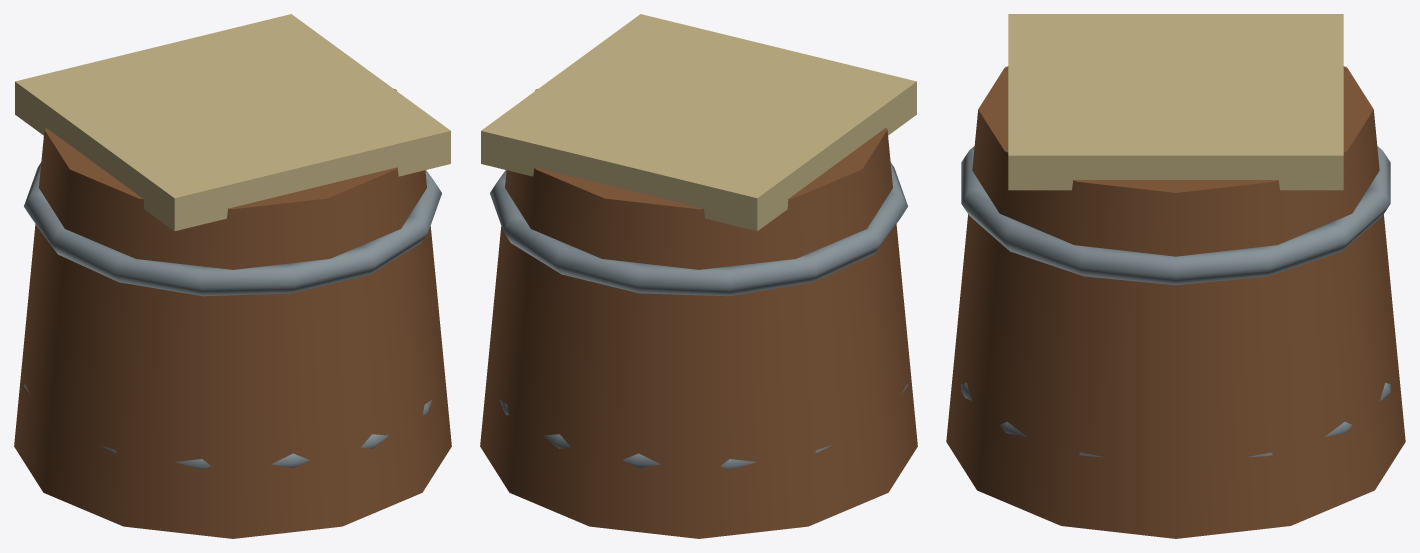
Rendered from compost_bin.glb.
3 views of the same model, side by side, from view 1: azimuth 30°, elevation 25°; view 2: azimuth 150°, elevation 25°; view 3: azimuth 270°, elevation 25° (orthographic). The views are drawn at different scales.
Visible parts, largest first — view 1: body, lid, ring_09, ring_025; view 2: body, lid, ring_09, ring_025; view 3: body, lid, ring_09, ring_025.
Part boxes in pixels (x1=…): body: x1=14, y1=89, x2=451, y2=538; lid: x1=15, y1=14, x2=450, y2=231; ring_09: x1=24, y1=162, x2=441, y2=296; ring_025: x1=24, y1=384, x2=432, y2=469; body: x1=480, y1=89, x2=917, y2=538; lid: x1=481, y1=14, x2=916, y2=231; ring_09: x1=490, y1=162, x2=907, y2=296; ring_025: x1=499, y1=384, x2=907, y2=469; body: x1=946, y1=66, x2=1405, y2=538; lid: x1=1008, y1=14, x2=1343, y2=190; ring_09: x1=961, y1=146, x2=1390, y2=285; ring_025: x1=961, y1=382, x2=1390, y2=457.
Size of what is drawn, in the model's own units: 1.44 by 1.23 by 1.44.
